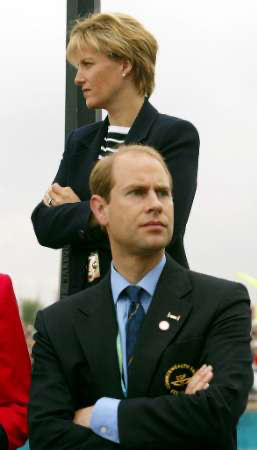Face: (102, 168, 179, 252), (71, 41, 123, 123)
